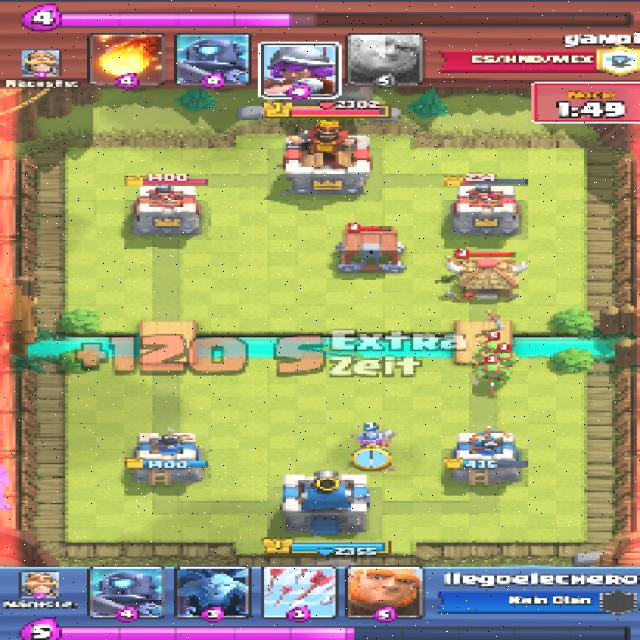Enemy-GoblinHut: (443, 255, 525, 302)
Enemy-SpearGoblin: (472, 366, 510, 387), (494, 354, 519, 371), (479, 341, 502, 355)
Player-GoblinCage: (334, 229, 409, 273)
Player-Musketeer: (352, 426, 394, 450)
